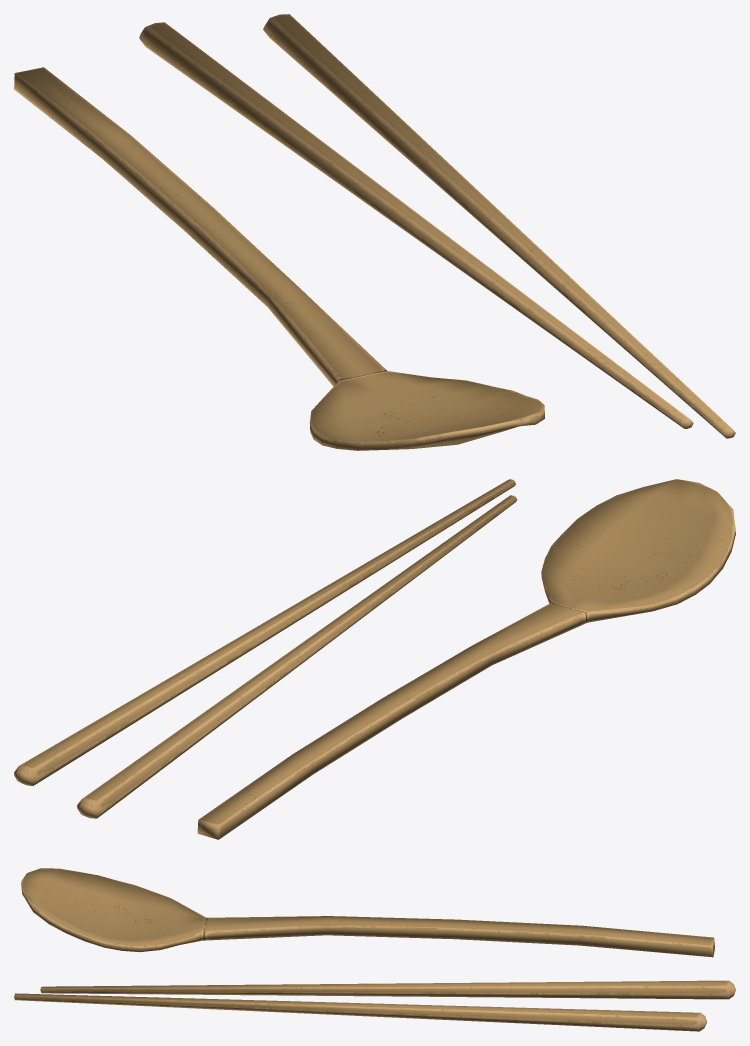
File: spoon_and_chopsticks.glb
3 renders of one model, top to bottom at view 1: azimuth 30°, elevation 25°; view 2: azimuth 150°, elevation 25°; view 3: azimuth 270°, elevation 25°, orthographic. The views are drawn at different scales.
Parts seen in each view (by area): view 1: SM_ Spoon_And_Chopsticks; view 2: SM_ Spoon_And_Chopsticks; view 3: SM_ Spoon_And_Chopsticks.
Boxes of the visible parts, <box> form: SM_ Spoon_And_Chopsticks: <box>14,14,735,450</box>; SM_ Spoon_And_Chopsticks: <box>14,479,735,839</box>; SM_ Spoon_And_Chopsticks: <box>14,868,735,1031</box>.
Bounding box in the file's own units: 0.0883 × 0.0151 × 0.2011.
Materials: 1 (1 with a texture image).
